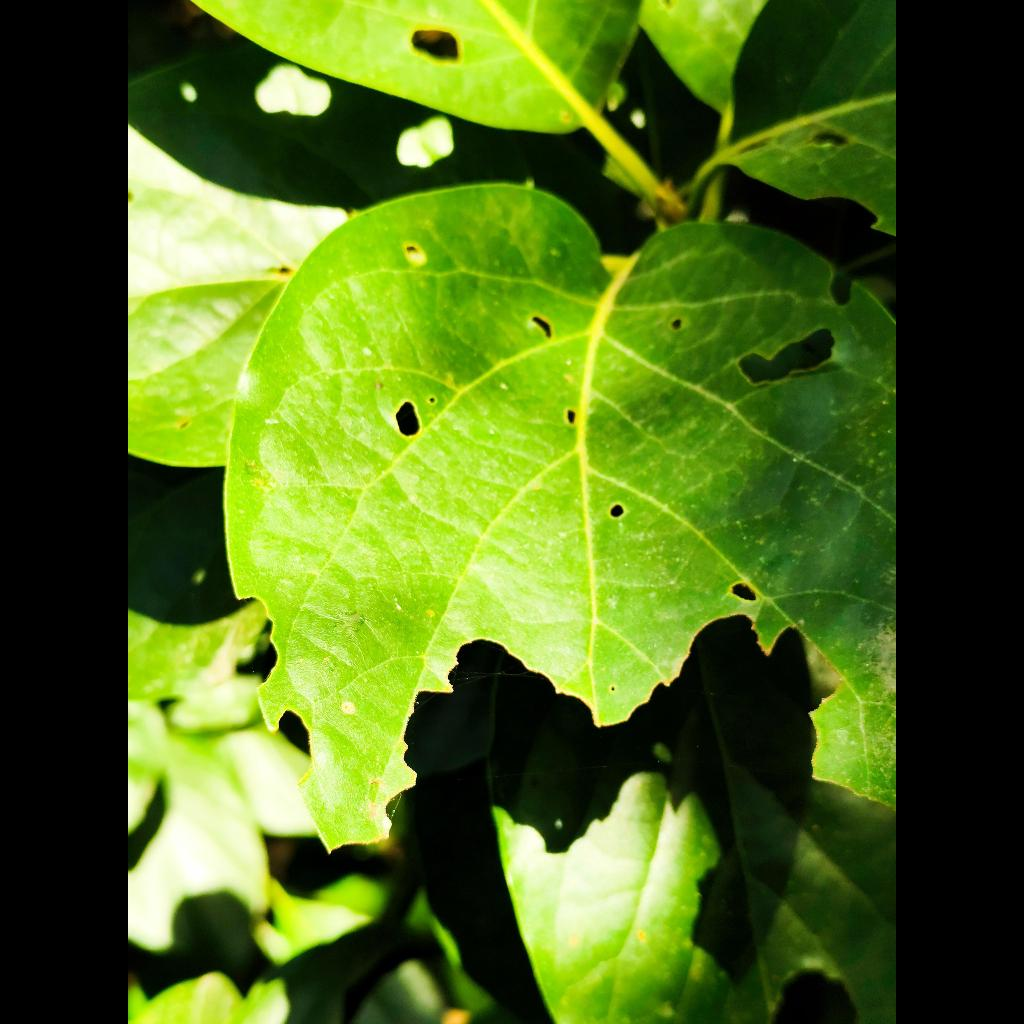plaga: (227, 184, 896, 846)
